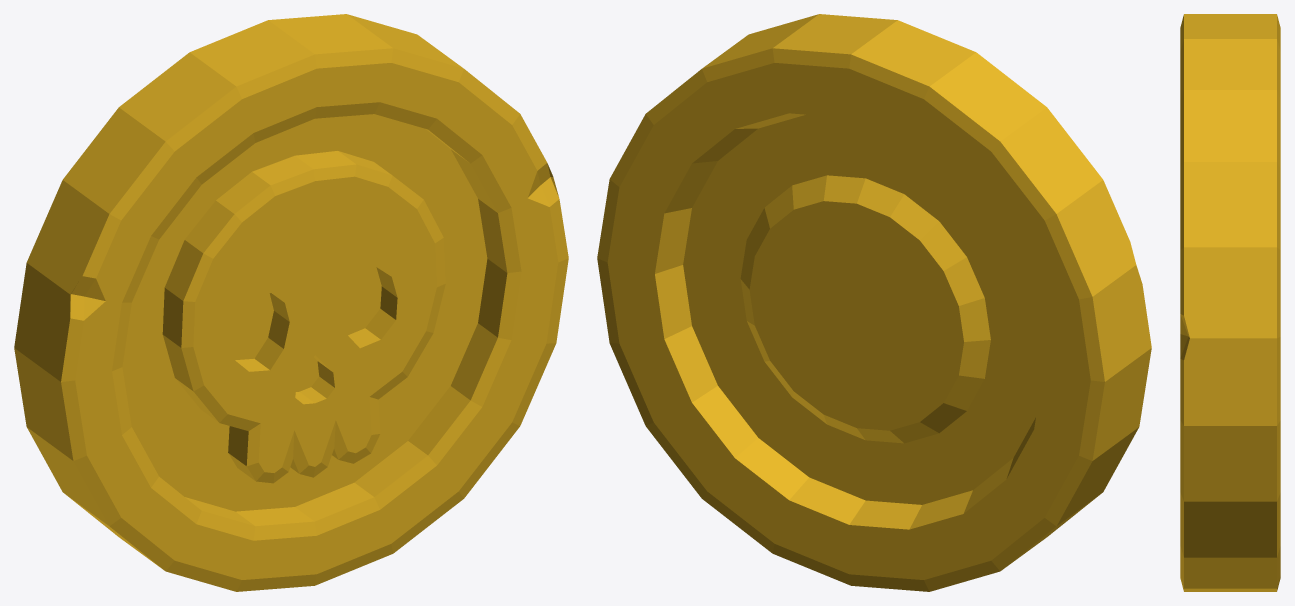
The model's file is Coin.glb.
The picture shows the model from 3 angles, left to right: view 1: azimuth 30°, elevation 25°; view 2: azimuth 150°, elevation 25°; view 3: azimuth 270°, elevation 25°; orthographic projection.
Parts seen in each view (by area): view 1: Coin; view 2: Coin; view 3: Coin.
Part boxes in pixels (<box>): Coin: <box>14,14,568,591</box>; Coin: <box>597,14,1151,591</box>; Coin: <box>1180,14,1280,591</box>.
Size of the model in its own units: 1.16 by 1.16 by 0.1997.
